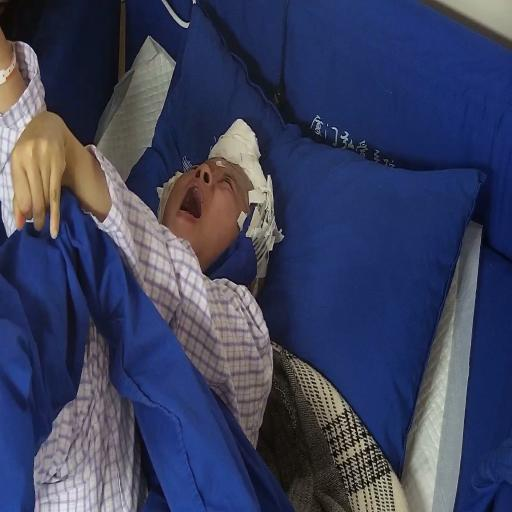Seizure: (164, 148, 259, 260)
